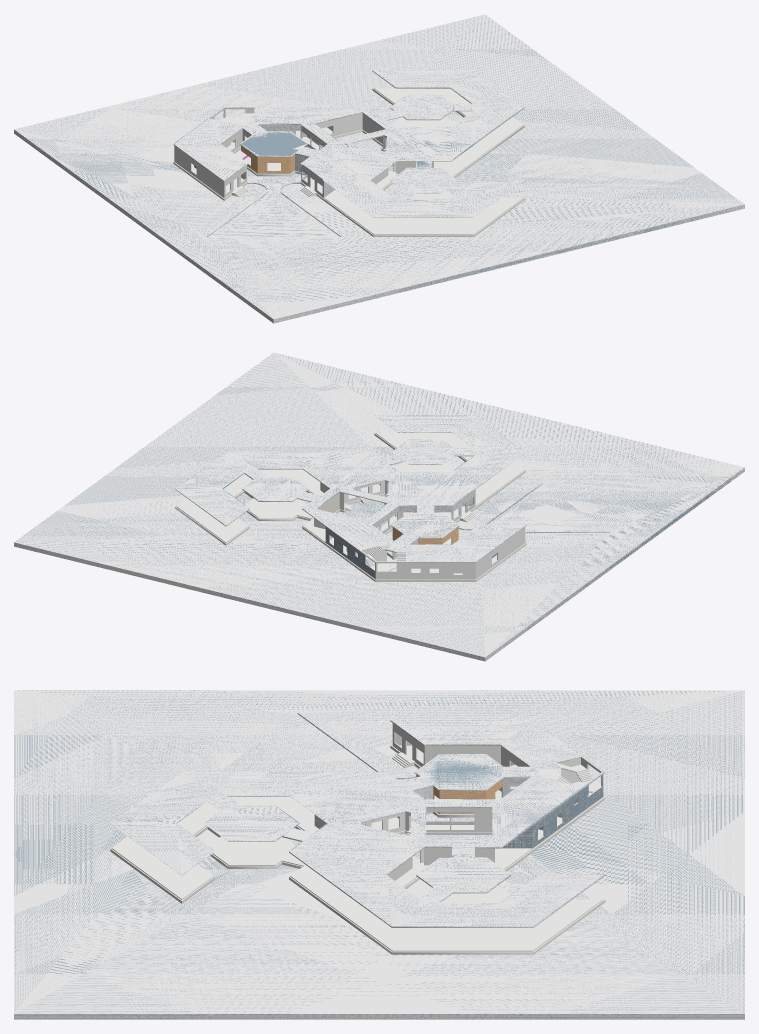
The picture shows the model from 3 angles, top to bottom: view 1: azimuth 30°, elevation 25°; view 2: azimuth 150°, elevation 25°; view 3: azimuth 270°, elevation 25°; orthographic projection. The views are drawn at different scales.
Parts seen in each view (by area): view 1: Group2, Group1, Group61, Group3, Group60, Group51; view 2: Group2, Group1, Group61, Group3, Group60; view 3: Group2, Group1, Group61, Group3, Group60, Group51.
Part boxes in pixels (<box>): Group2: <box>14,14,744,323</box>; Group1: <box>173,70,524,217</box>; Group61: <box>173,88,525,236</box>; Group3: <box>174,108,433,197</box>; Group60: <box>240,131,308,156</box>; Group51: <box>241,145,307,173</box>; Group2: <box>14,352,744,661</box>; Group1: <box>175,415,526,562</box>; Group61: <box>175,433,526,581</box>; Group3: <box>314,481,525,578</box>; Group60: <box>391,512,459,538</box>; Group2: <box>14,690,744,1019</box>; Group1: <box>110,720,605,927</box>; Group61: <box>110,745,605,954</box>; Group3: <box>314,723,603,880</box>; Group60: <box>414,754,503,790</box>; Group51: <box>416,774,502,813</box>.
Size of the model in its own units: 119 by 5.8 by 113.
